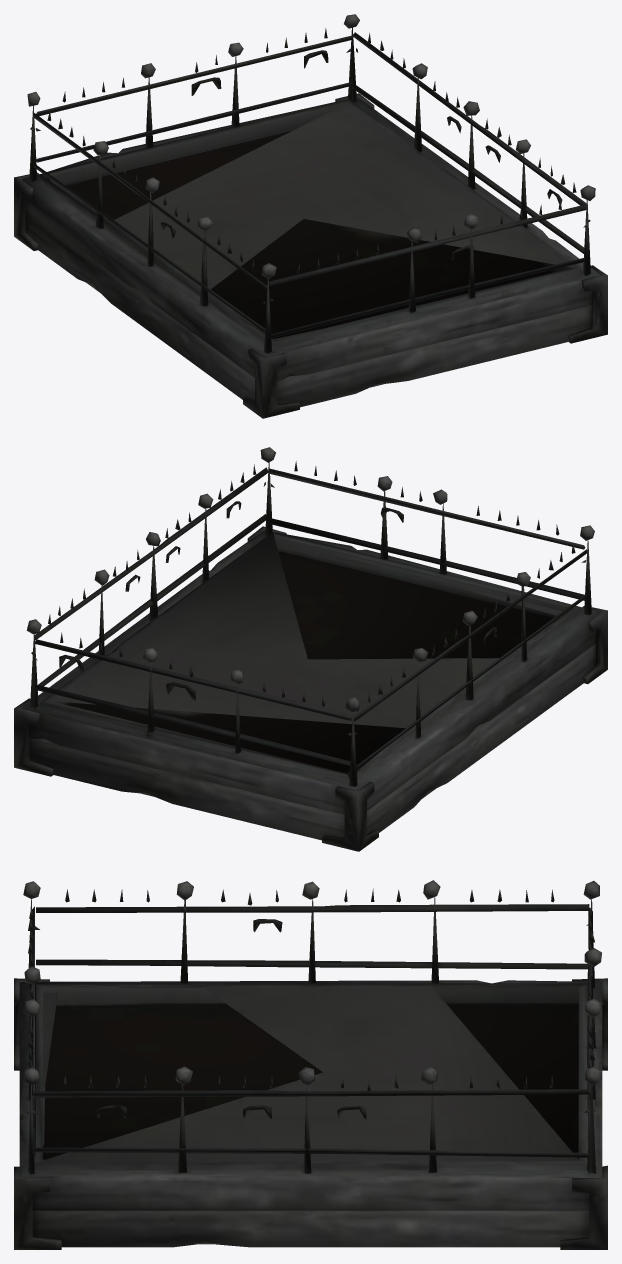
File: prop_node_garden_plot.glb
3 renders of one model, top to bottom at view 1: azimuth 30°, elevation 25°; view 2: azimuth 150°, elevation 25°; view 3: azimuth 270°, elevation 25°, orthographic. The views are drawn at different scales.
Parts seen in each view (by area): view 1: tripo_node_151b4a9c-35fc-44b7-a79a-4884e617d6d4; view 2: tripo_node_151b4a9c-35fc-44b7-a79a-4884e617d6d4; view 3: tripo_node_151b4a9c-35fc-44b7-a79a-4884e617d6d4.
Boxes of the visible parts, <box> form: tripo_node_151b4a9c-35fc-44b7-a79a-4884e617d6d4: <box>14,14,607,418</box>; tripo_node_151b4a9c-35fc-44b7-a79a-4884e617d6d4: <box>14,447,607,851</box>; tripo_node_151b4a9c-35fc-44b7-a79a-4884e617d6d4: <box>14,880,607,1249</box>.
Bounding box in the file's own units: 0.7988 × 0.3223 × 0.998.
1 material, 1 textured.
